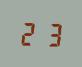three: (40, 19, 60, 47)
two: (19, 19, 39, 46)
